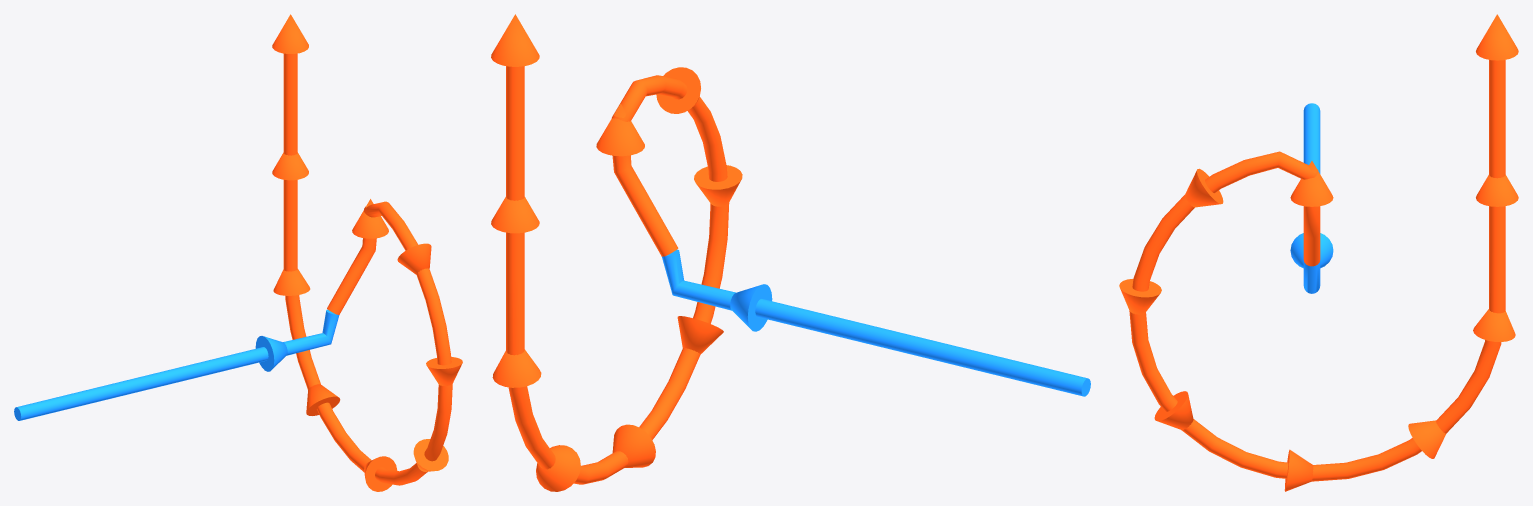
File: slurry_pump_flow.glb
The picture shows the model from 3 angles, left to right: view 1: azimuth 30°, elevation 25°; view 2: azimuth 150°, elevation 25°; view 3: azimuth 270°, elevation 25°; orthographic projection. The views are drawn at different scales.
Parts seen in each view (by area): view 1: flow_discharge, flow_suction; view 2: flow_discharge, flow_suction; view 3: flow_discharge, flow_suction.
Part boxes in pixels (left/top/right/bottom): flow_discharge: left=272, top=14, right=462, bottom=491; flow_suction: left=14, top=309, right=339, bottom=420; flow_discharge: left=491, top=14, right=742, bottom=491; flow_suction: left=662, top=249, right=1090, bottom=396; flow_discharge: left=1119, top=14, right=1518, bottom=491; flow_suction: left=1290, top=103, right=1333, bottom=293.
Bounding box in the file's own units: 0.5967 × 0.6345 × 0.4827.
